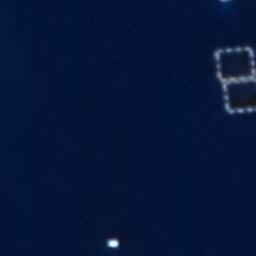square_solid: (210, 42, 256, 84), (220, 76, 256, 116)
